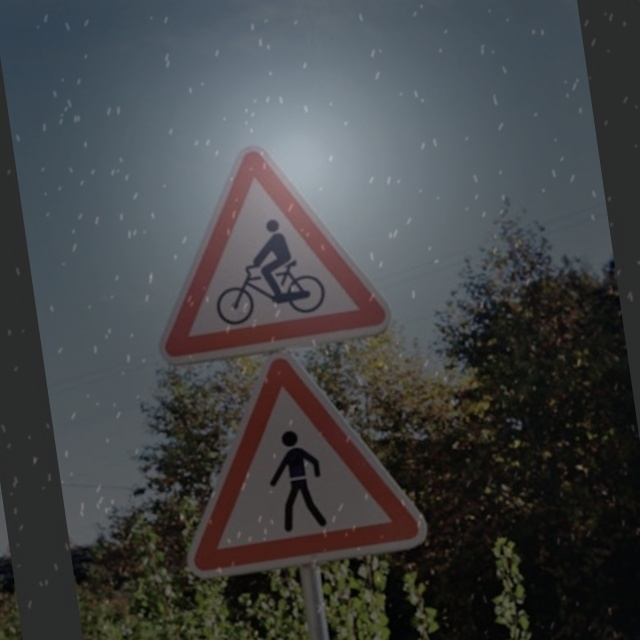Cycle_Crossing: (129, 127, 393, 370)
